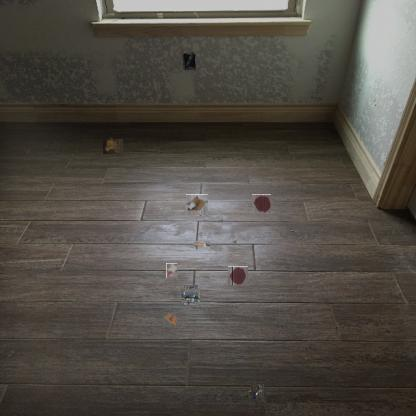dirty: (187, 194, 208, 216), (104, 137, 122, 155), (249, 385, 266, 401), (183, 287, 199, 304), (163, 313, 177, 327), (166, 263, 177, 278), (194, 241, 210, 249)
liquid: (252, 194, 271, 214), (229, 266, 248, 286)
